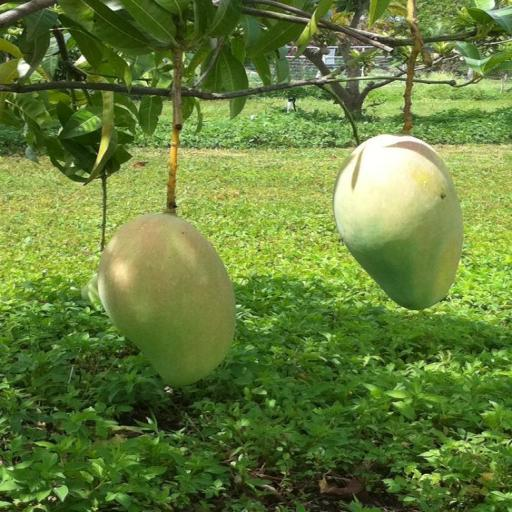mango: (99, 213, 235, 386), (335, 135, 462, 309)
